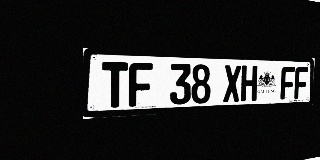3: (170, 63, 191, 105)
8: (191, 64, 211, 104)
F: (129, 62, 153, 107), (280, 66, 295, 100), (294, 67, 308, 99)
H: (241, 65, 258, 101)
T: (102, 62, 128, 108)
X: (223, 65, 241, 102)
